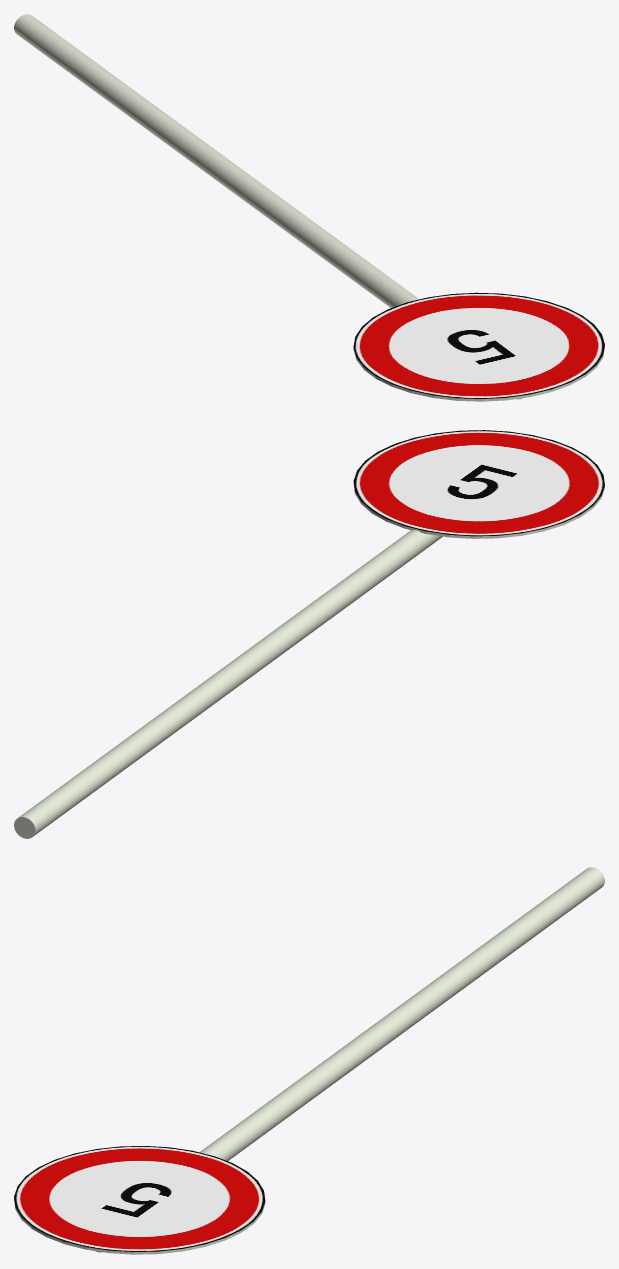
File: stop.glb
The picture shows the model from 3 angles, top to bottom: view 1: azimuth 30°, elevation 25°; view 2: azimuth 150°, elevation 25°; view 3: azimuth 330°, elevation 25°; orthographic projection.
Visible parts, largest first — view 1: Circle.004, 5_tube; view 2: Circle.004, 5_tube; view 3: Circle.004, 5_tube.
Part boxes in pixels (x1,y1,x2,y2): Circle.004: (353,292,604,401); 5_tube: (14,14,523,399); Circle.004: (353,430,604,538); 5_tube: (14,530,442,838); Circle.004: (14,1146,265,1254); 5_tube: (95,867,604,1252).
Size of the model in its own units: 0.4383 by 0.0437 by 1.81.
3 materials, 1 textured.
